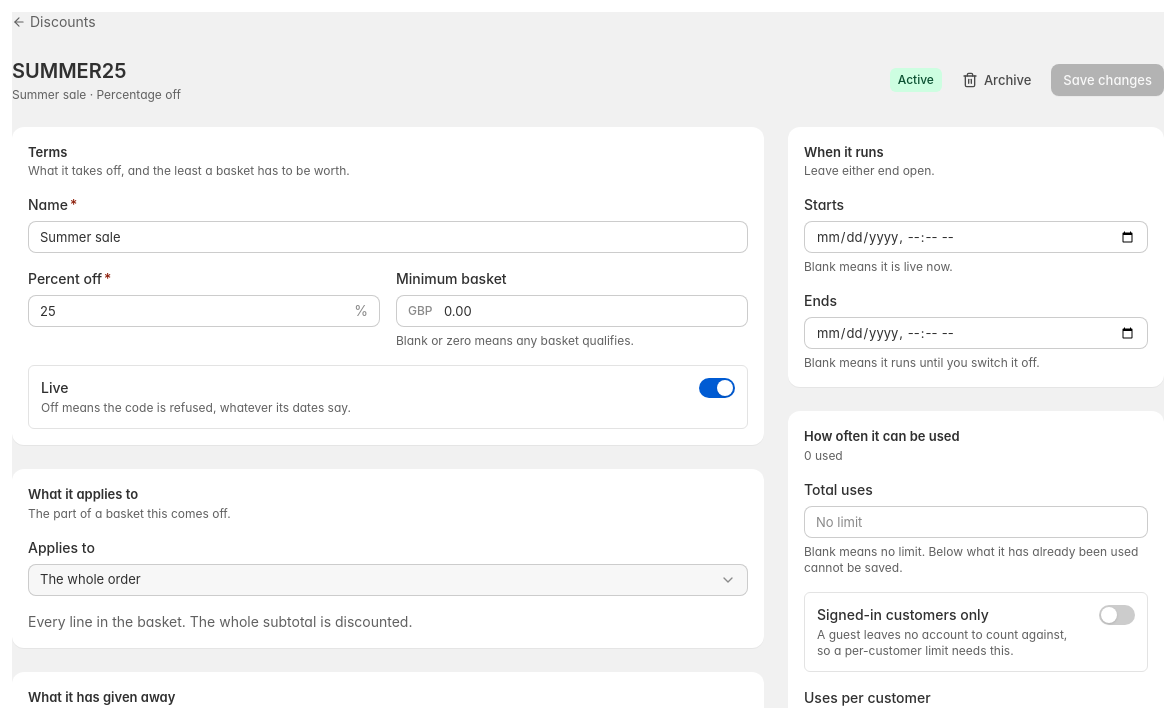
Test: DiscountDetailPage › will not save a window that ends before it starts
Type "2026-06-01T10:00" into the field labelled "Starts" at (976, 237), box x1=804 y1=221 x2=1148 y2=253
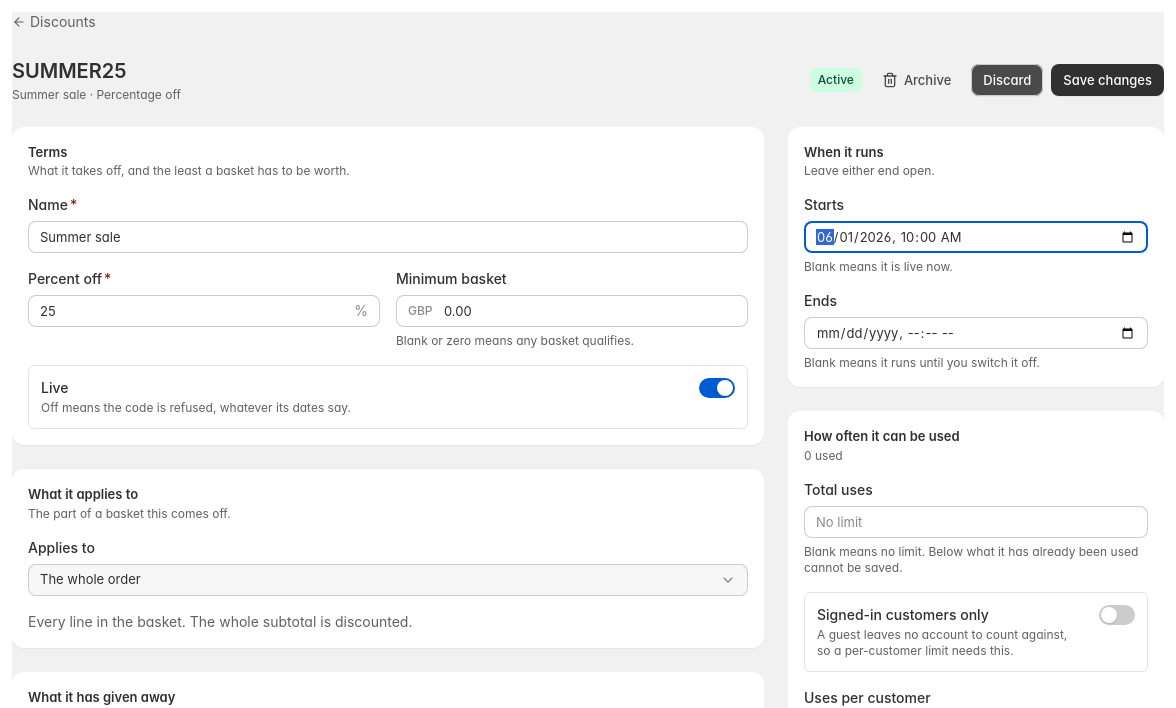
Type "2026-05-01T10:00" into the field labelled "Ends" at (976, 333), box x1=804 y1=317 x2=1148 y2=349
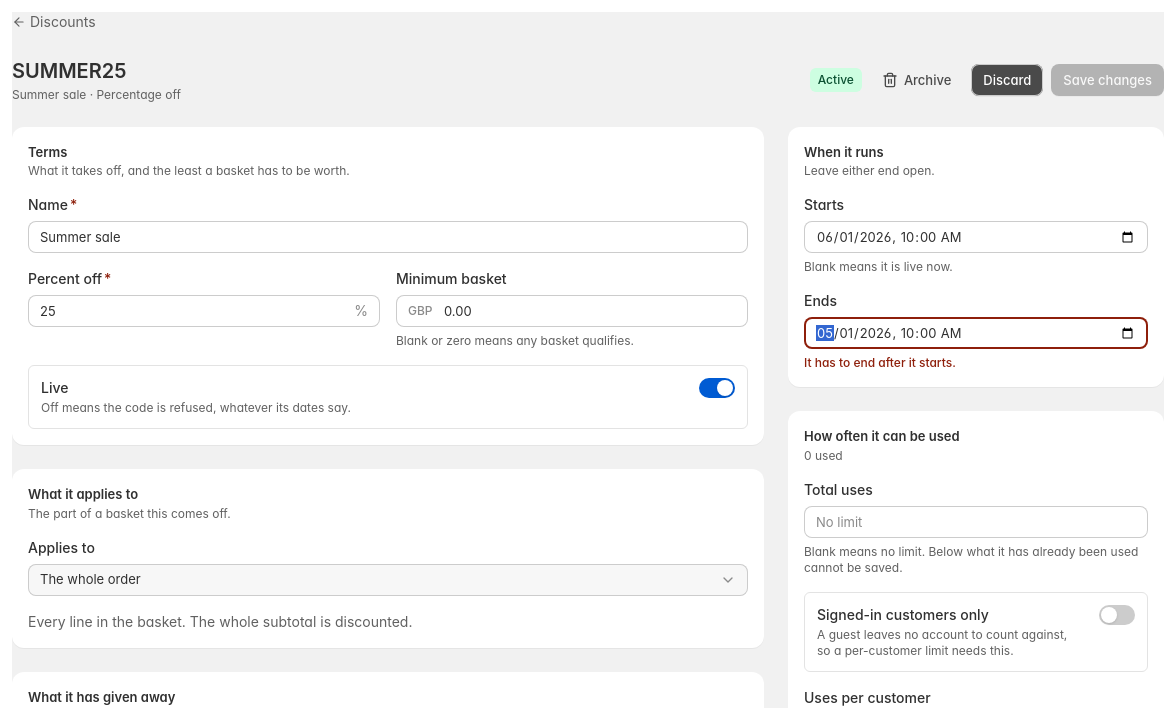
Now the text "It has to end after it starts." is shown, box x1=804 y1=355 x2=956 y2=370
Now the button "Save changes" is disabled, box x1=1051 y1=64 x2=1164 y2=96
